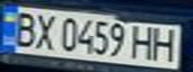0: (54, 15, 78, 53)
4: (75, 17, 96, 55)
5: (90, 18, 112, 56)
9: (106, 20, 130, 58)
B: (6, 8, 39, 48)
H: (127, 24, 160, 61), (148, 25, 181, 62)
X: (30, 10, 60, 52)
